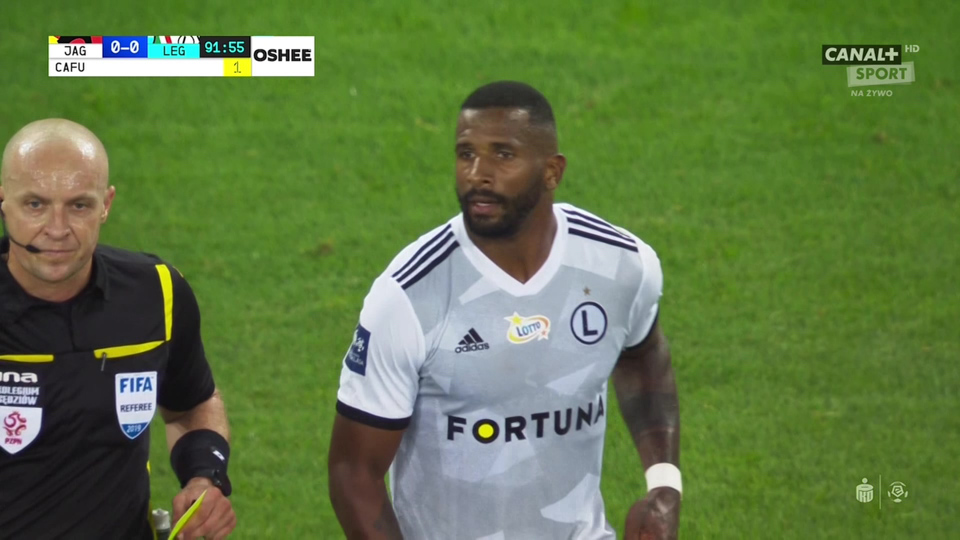Adidas: (454, 327, 490, 353)
